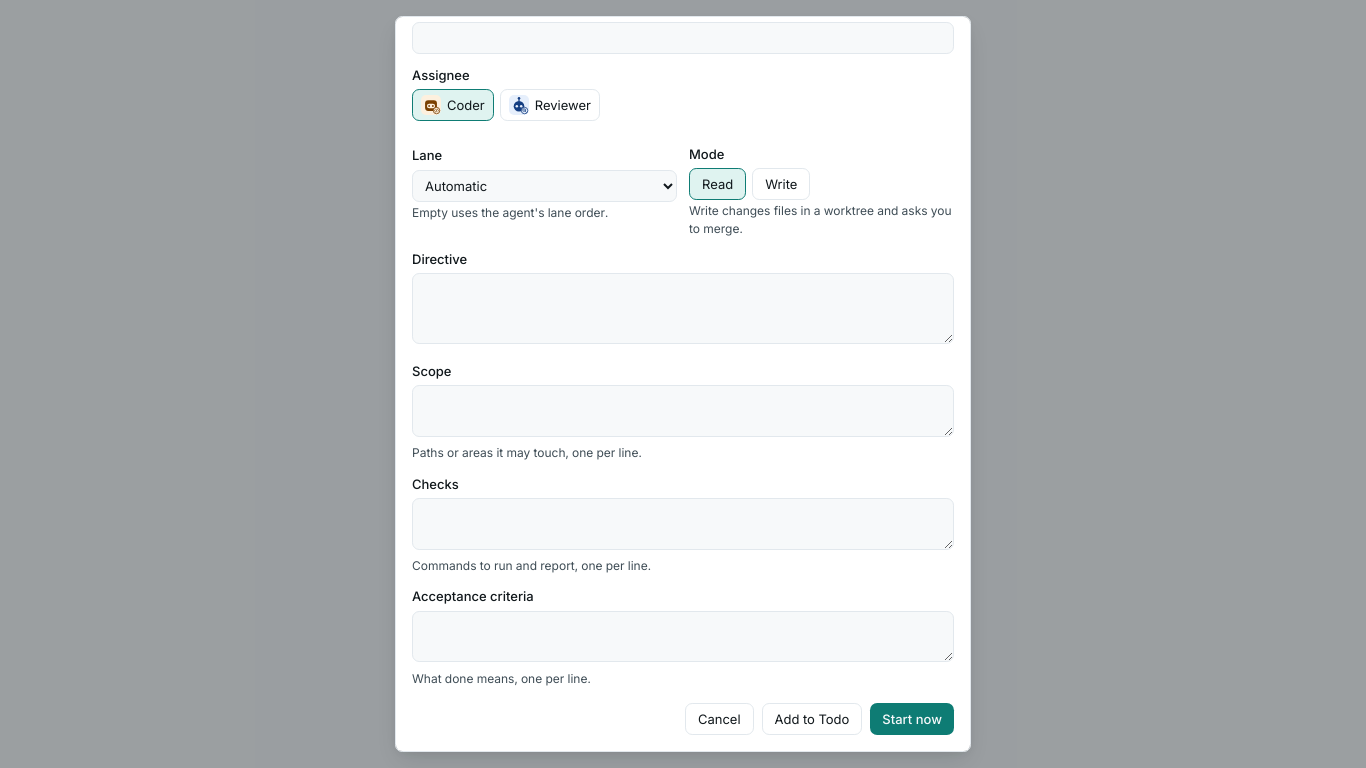
Test: TaskBuilder › asks for a title before it sends anything
(page scrolled)
Click the button "Add to Todo" at (812,719), box left=762, top=703, right=862, bottom=735
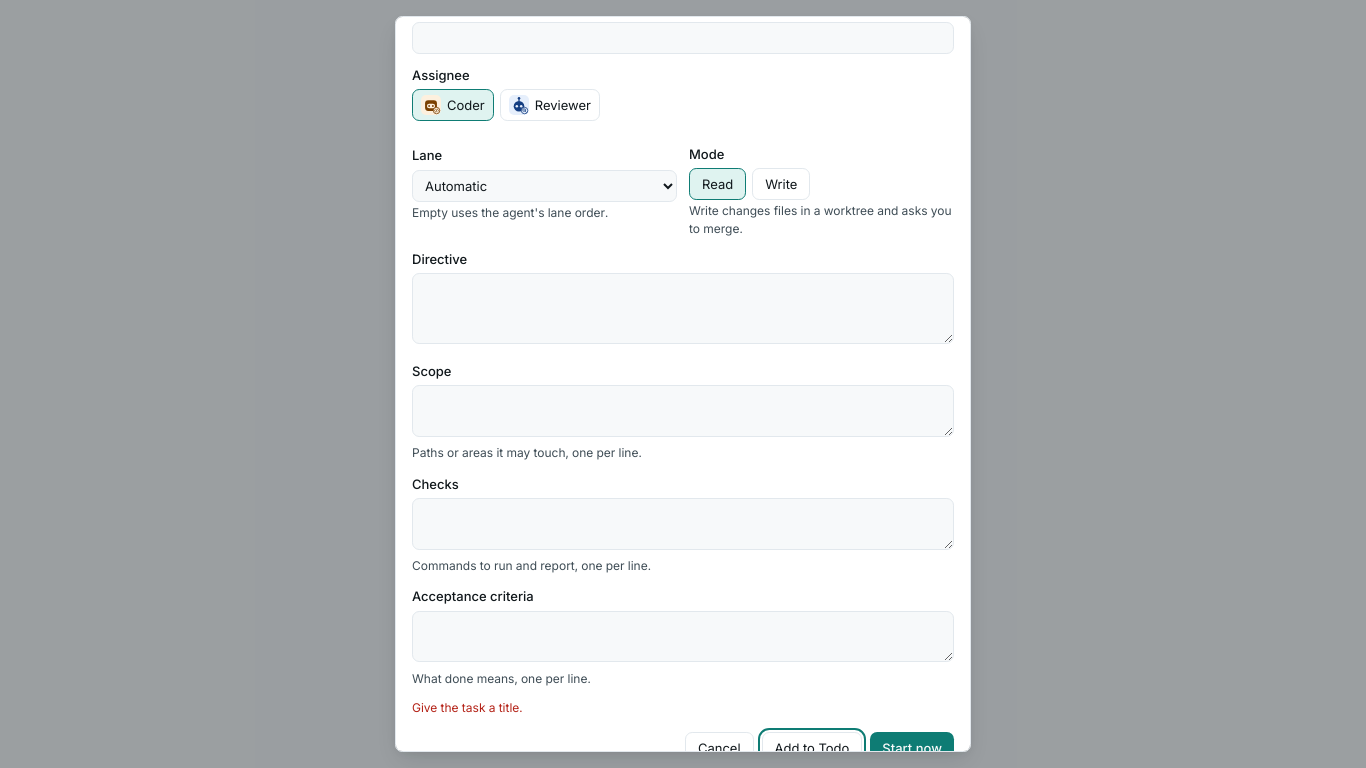
Expected: the message shows "title", left=412, top=700, right=522, bottom=715
